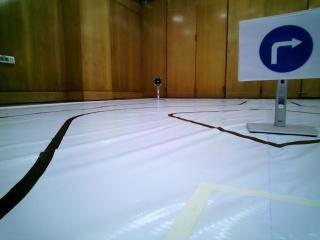right: (241, 15, 320, 78)
